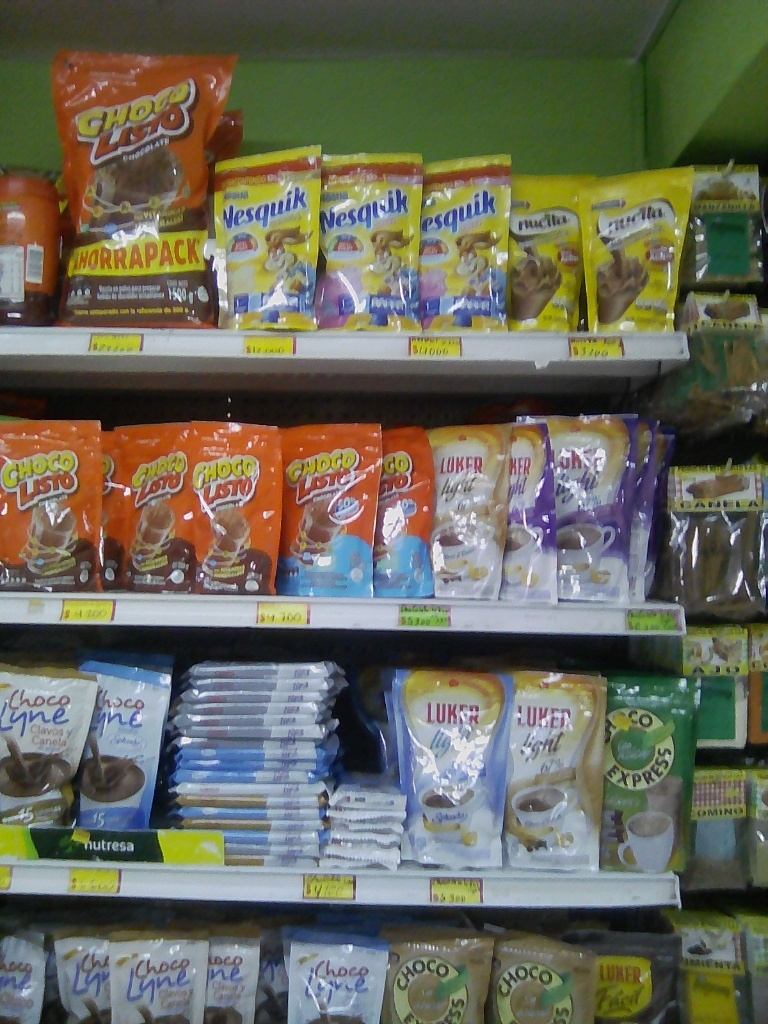COL0170104DYP20000: (281, 425, 380, 596)
